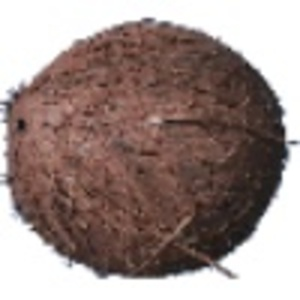coco: (1, 18, 300, 279)
